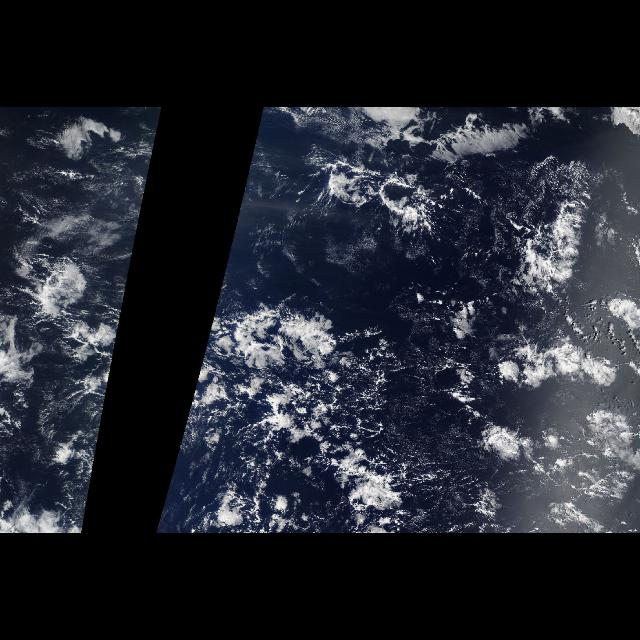Sugar: (215, 138, 398, 302), (58, 138, 158, 302)
